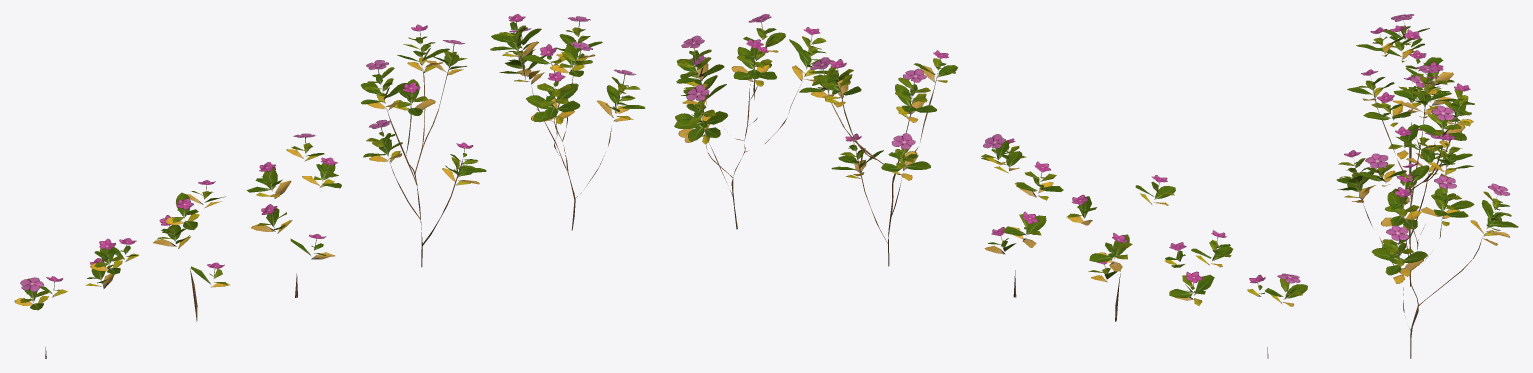
The model's file is periwinkle_plant.glb.
3 views of the same model, side by side, from view 1: azimuth 30°, elevation 25°; view 2: azimuth 150°, elevation 25°; view 3: azimuth 270°, elevation 25° (orthographic). The views are drawn at different scales.
Parts seen in each view (by area): view 1: periwinkle_plant_01_LOD0, periwinkle_plant_02_LOD0, periwinkle_plant_03_LOD0, periwinkle_plant_04_LOD0, periwinkle_plant_05_LOD0, periwinkle_plant_06_LOD0; view 2: periwinkle_plant_01_LOD0, periwinkle_plant_02_LOD0, periwinkle_plant_03_LOD0, periwinkle_plant_04_LOD0, periwinkle_plant_05_LOD0, periwinkle_plant_06_LOD0; view 3: periwinkle_plant_01_LOD0, periwinkle_plant_02_LOD0, periwinkle_plant_03_LOD0, periwinkle_plant_04_LOD0, periwinkle_plant_05_LOD0, periwinkle_plant_06_LOD0.
Boxes of the visible parts, x1,y1,x2,y2 form: periwinkle_plant_01_LOD0: (490, 14, 645, 230); periwinkle_plant_02_LOD0: (360, 24, 486, 267); periwinkle_plant_03_LOD0: (246, 133, 341, 297); periwinkle_plant_04_LOD0: (153, 180, 229, 321); periwinkle_plant_05_LOD0: (85, 238, 138, 288); periwinkle_plant_06_LOD0: (14, 276, 67, 358); periwinkle_plant_01_LOD0: (674, 14, 834, 229); periwinkle_plant_02_LOD0: (799, 50, 957, 266); periwinkle_plant_03_LOD0: (981, 134, 1063, 297); periwinkle_plant_04_LOD0: (1066, 175, 1175, 321); periwinkle_plant_05_LOD0: (1164, 230, 1232, 305); periwinkle_plant_06_LOD0: (1247, 273, 1307, 358); periwinkle_plant_01_LOD0: (1336, 133, 1518, 358); periwinkle_plant_02_LOD0: (1347, 65, 1474, 286); periwinkle_plant_03_LOD0: (1363, 75, 1434, 206); periwinkle_plant_04_LOD0: (1356, 27, 1456, 173); periwinkle_plant_05_LOD0: (1377, 25, 1454, 82); periwinkle_plant_06_LOD0: (1383, 14, 1429, 103).
Bounding box in the file's own units: 1.24 × 0.4107 × 0.3208.
1 material, 1 textured.
